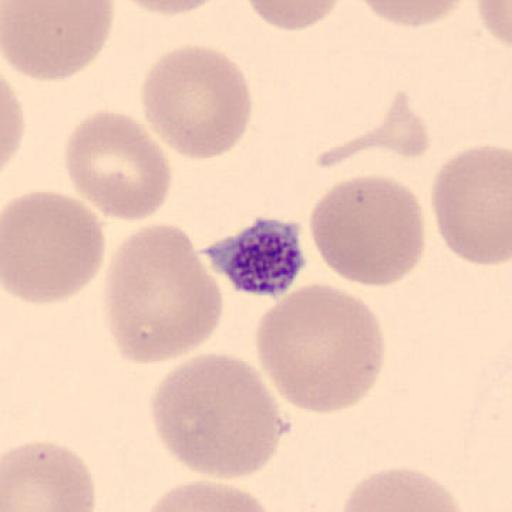Platelet: (206, 215, 310, 298)
RBC: (102, 222, 224, 368), (150, 351, 288, 480), (255, 282, 386, 416), (306, 174, 426, 288), (140, 42, 254, 161), (62, 107, 173, 223), (3, 189, 107, 307), (429, 142, 512, 267), (2, 1, 116, 81), (313, 103, 431, 176), (309, 94, 431, 163), (2, 438, 96, 512), (336, 465, 470, 512), (143, 478, 281, 512), (357, 0, 474, 28), (244, 0, 342, 32), (1, 74, 25, 178), (115, 0, 223, 17), (475, 0, 512, 48)
